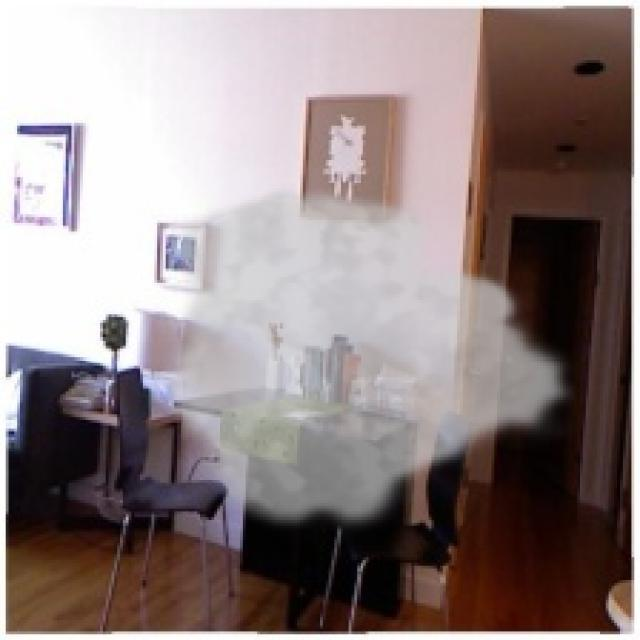Smoke: (160, 182, 577, 538)
